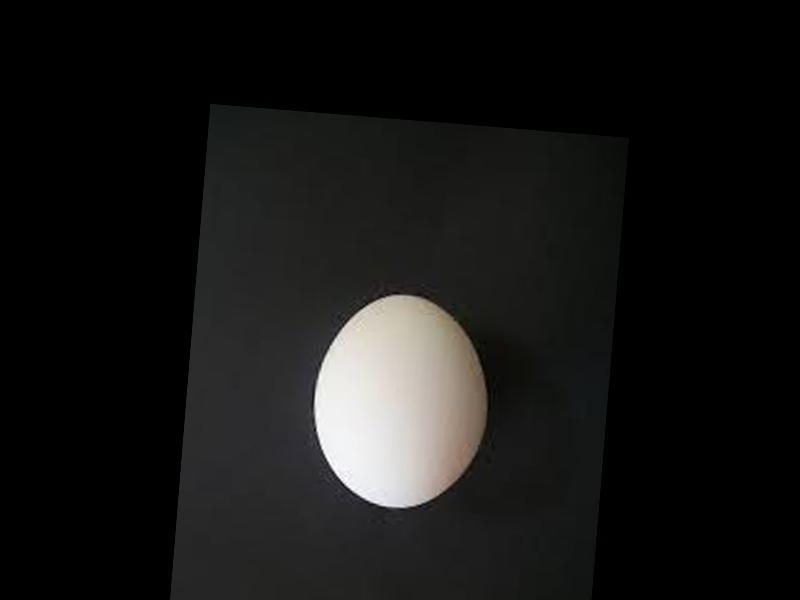Eggs: (307, 286, 494, 509)
